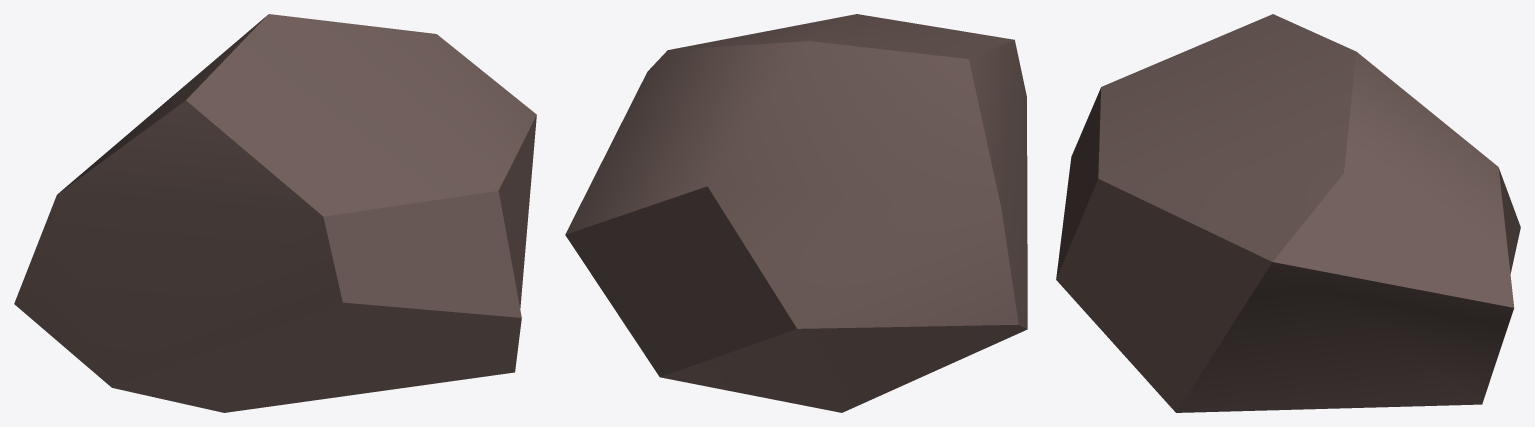
File: env_clutter_pebble02.fbx
3 views of the same model, side by side, from view 1: azimuth 30°, elevation 25°; view 2: azimuth 150°, elevation 25°; view 3: azimuth 270°, elevation 25° (orthographic). The views are drawn at different scales.
Parts seen in each view (by area): view 1: clutter_rock02; view 2: clutter_rock02; view 3: clutter_rock02.
Part boxes in pixels (x1,y1,x2,y2): clutter_rock02: (14,14,536,412); clutter_rock02: (565,14,1027,412); clutter_rock02: (1056,14,1520,412).
Size of the model in its own units: 2.5 by 2.02 by 2.37.
